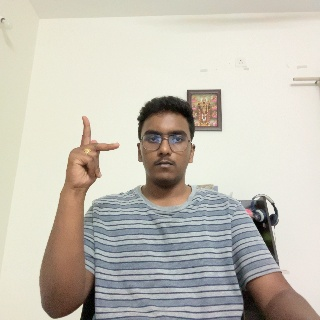Face: (136, 110, 195, 190)
Okay: (58, 116, 120, 201)
